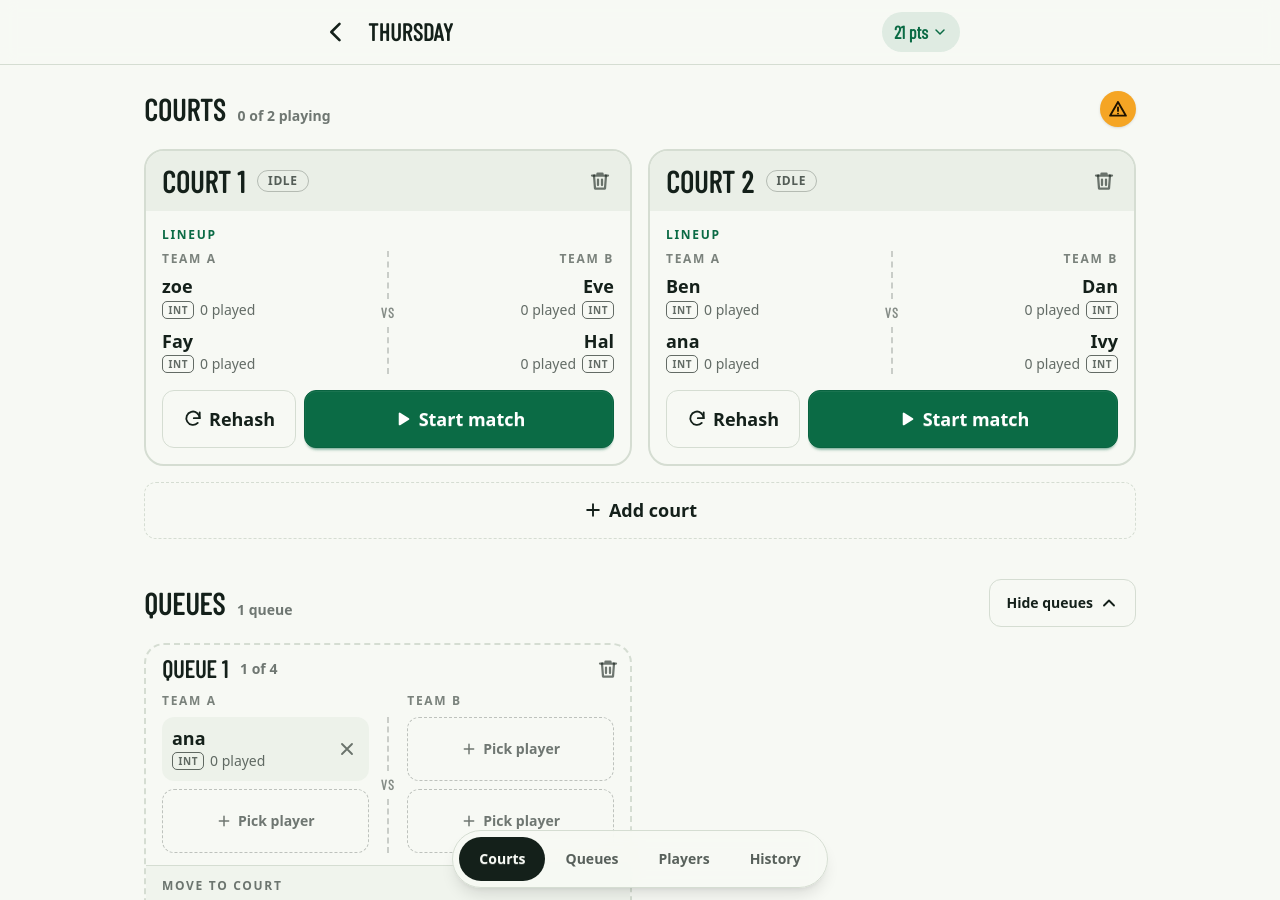
Test case: QueuesSection › clears a filled spot
What coordinates should you click on to do the following:
click the button named "Clear ana"
I would click on:
 (347, 749)
Its box is [325, 727, 369, 771].
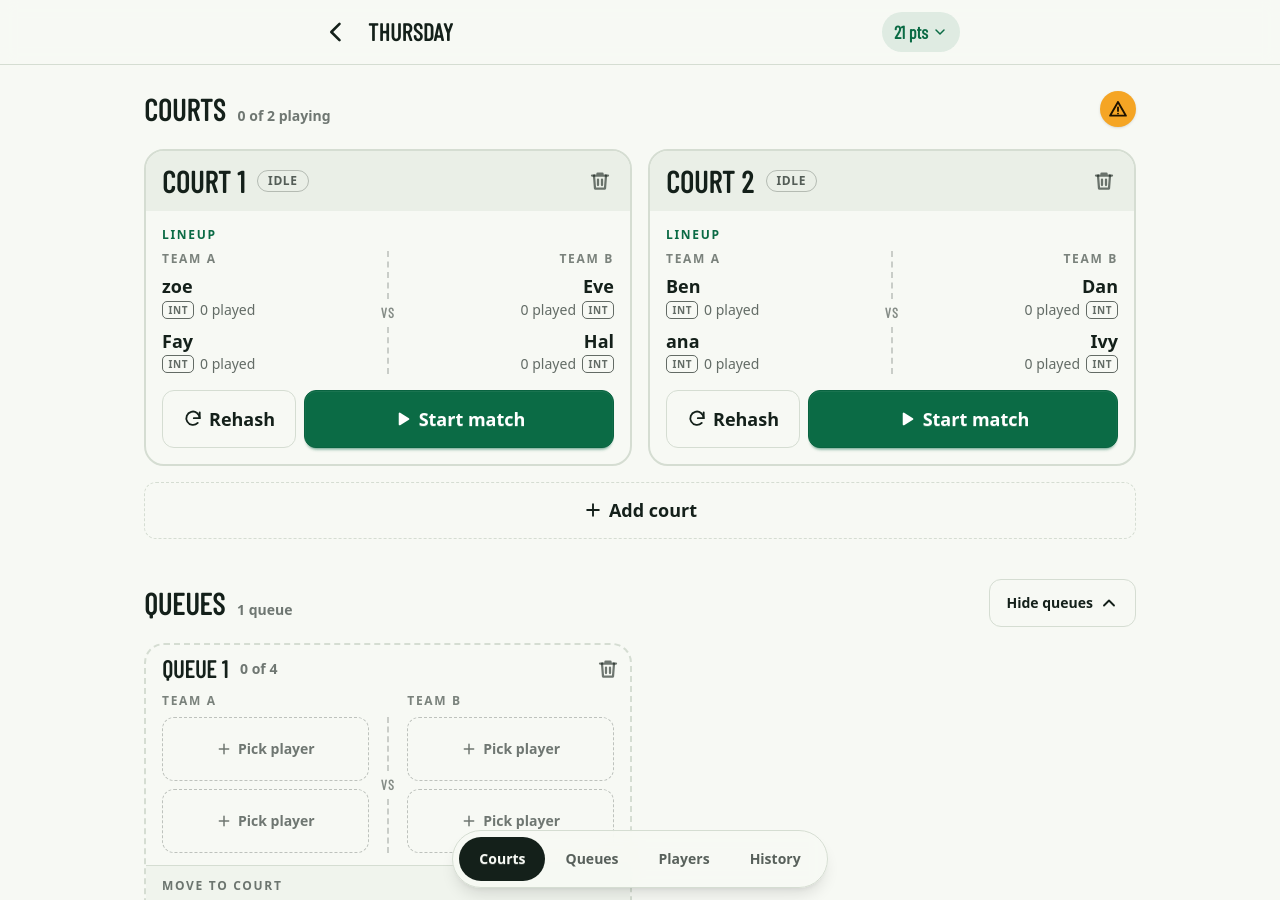
Expected: the button with aria-label "Pick player for Team A, spot 1" is shown, [162, 717, 369, 781]
